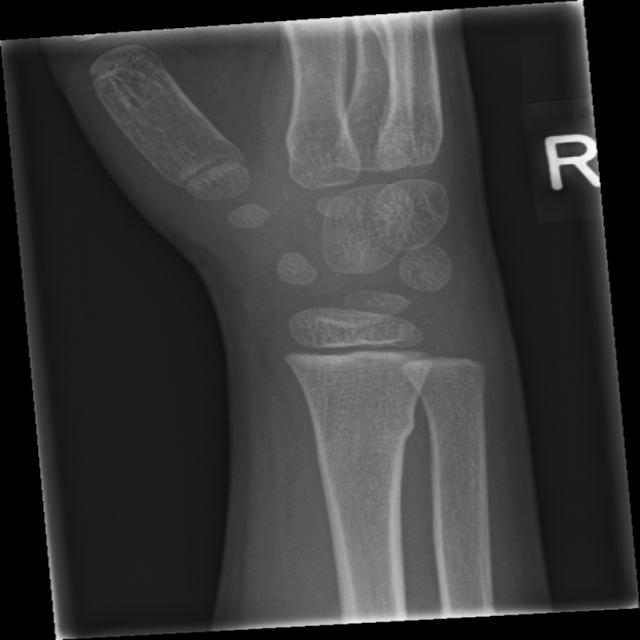radius fracture: (261, 395, 424, 561)
